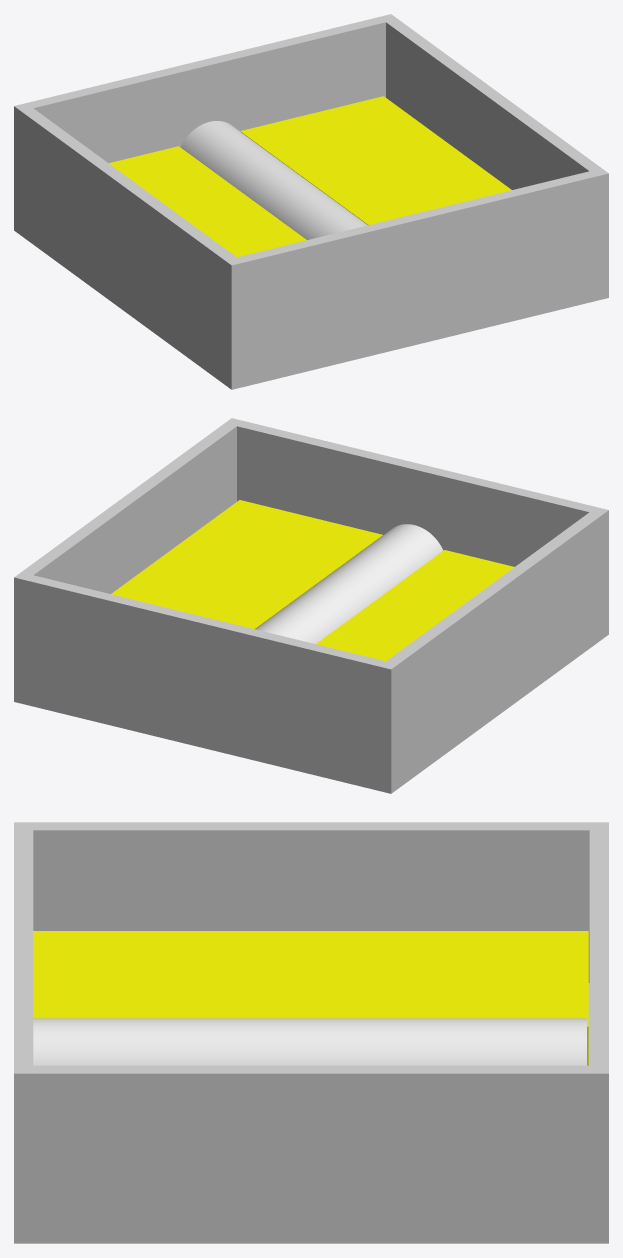
The model's file is Provino1.dae.
The picture shows the model from 3 angles, top to bottom: view 1: azimuth 30°, elevation 25°; view 2: azimuth 150°, elevation 25°; view 3: azimuth 270°, elevation 25°; orthographic projection. The views are drawn at different scales.
Parts seen in each view (by area): view 1: node3, node0, node1, node2; view 2: node3, node0, node1, node2; view 3: node3, node1, node2.
Part boxes in pixels (left/top/right/bottom): node3: left=14, top=14, right=608, bottom=389; node0: left=240, top=96, right=511, bottom=225; node1: left=109, top=146, right=306, bottom=257; node2: left=180, top=121, right=367, bottom=239; node3: left=14, top=418, right=608, bottom=793; node0: left=111, top=500, right=382, bottom=629; node1: left=316, top=550, right=514, bottom=661; node2: left=255, top=524, right=443, bottom=643; node3: left=14, top=822, right=608, bottom=1243; node1: left=33, top=931, right=588, bottom=1065; node2: left=33, top=1018, right=586, bottom=1065.
Bounding box in the file's own units: 0.092 × 0.092 × 0.029.
